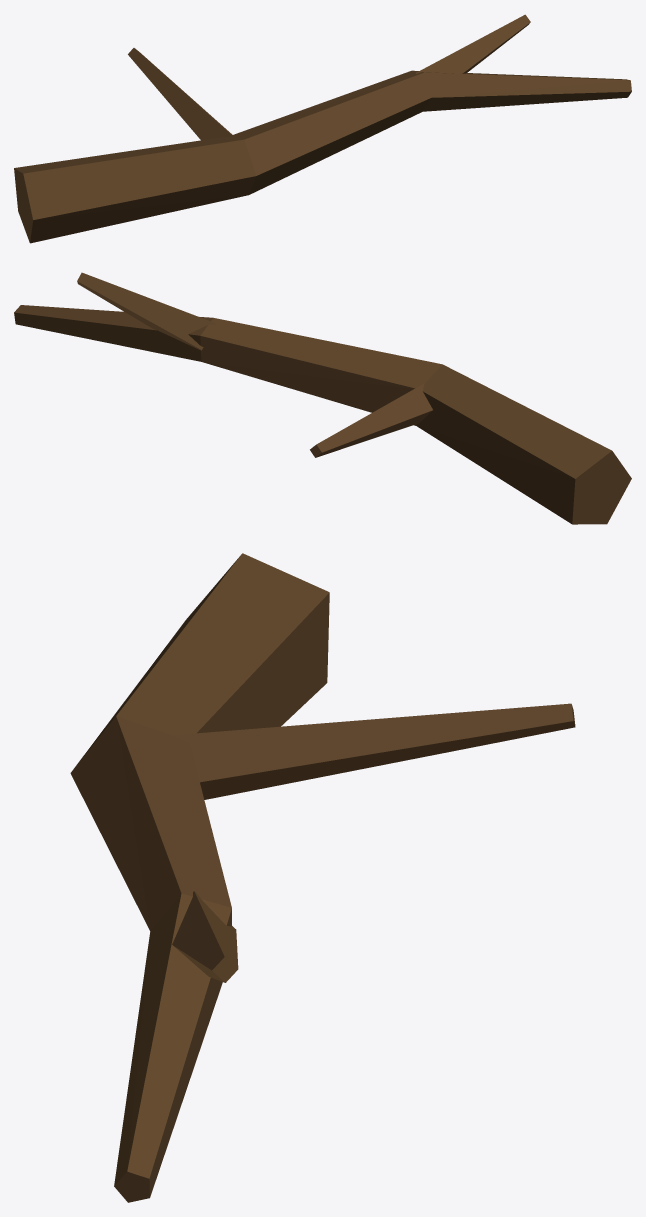
The model's file is HS_LP_Branch_03.fbx.
3 renders of one model, top to bottom at view 1: azimuth 30°, elevation 25°; view 2: azimuth 150°, elevation 25°; view 3: azimuth 270°, elevation 25°, orthographic. The views are drawn at different scales.
Parts seen in each view (by area): view 1: HS_LP_Branch_03; view 2: HS_LP_Branch_03; view 3: HS_LP_Branch_03.
Boxes of the visible parts, <box> form: HS_LP_Branch_03: <box>14,14,631,243</box>; HS_LP_Branch_03: <box>14,272,631,524</box>; HS_LP_Branch_03: <box>70,553,575,1202</box>.
Bounding box in the file's own units: 81.28 × 14.84 × 30.46.
